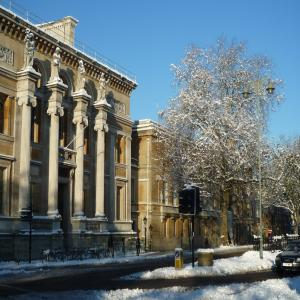Vehicle-registration-plate: (283, 264, 293, 267)
